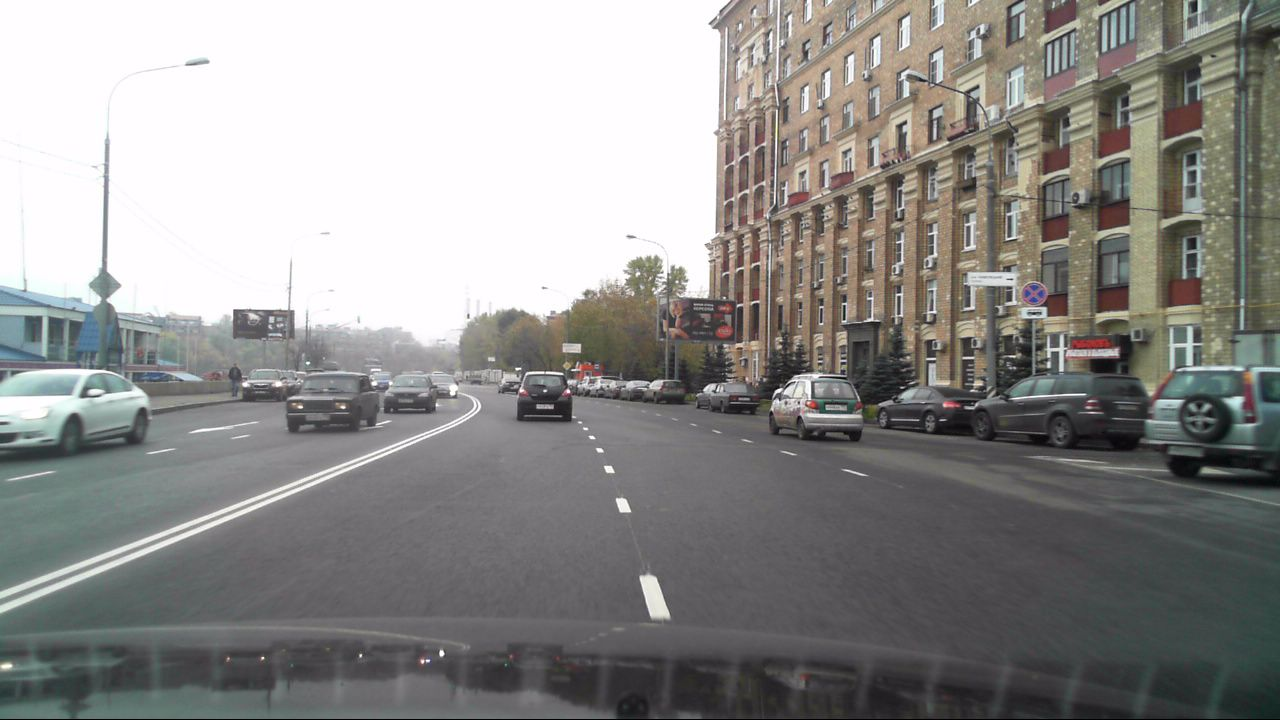No Parking: (1019, 280, 1047, 306)
